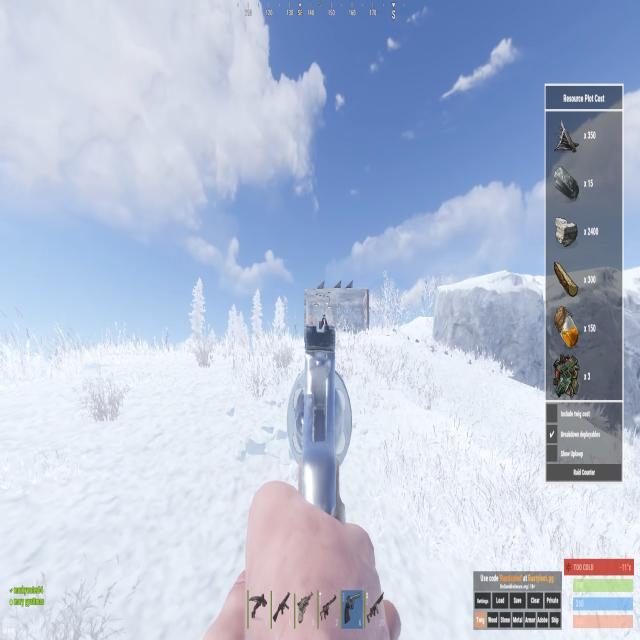Player: (321, 313, 327, 331)
